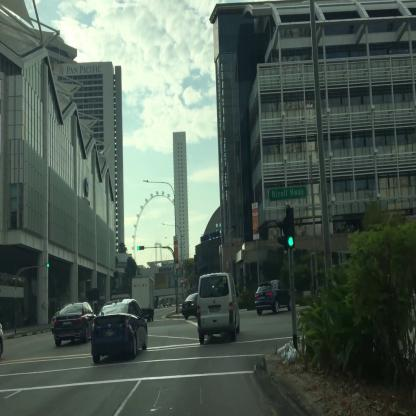green_traffic_light: (286, 211, 294, 247), (137, 245, 144, 250), (46, 262, 54, 266)
